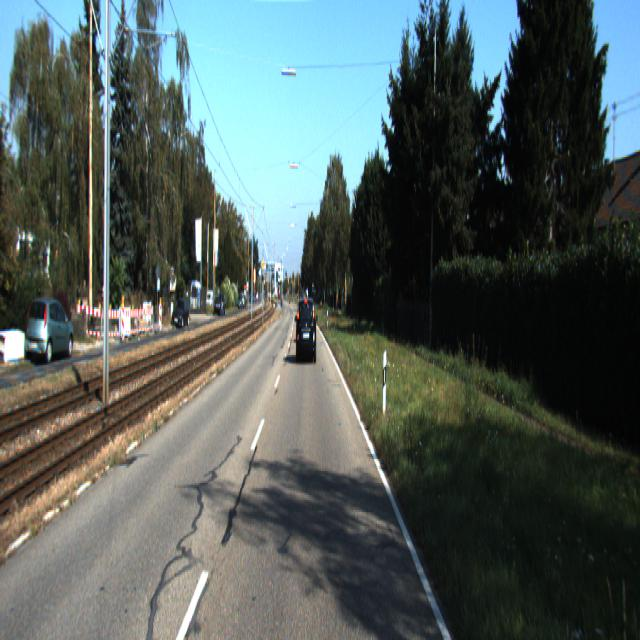Car: (24, 299, 76, 367), (296, 296, 317, 364), (172, 300, 190, 330)
